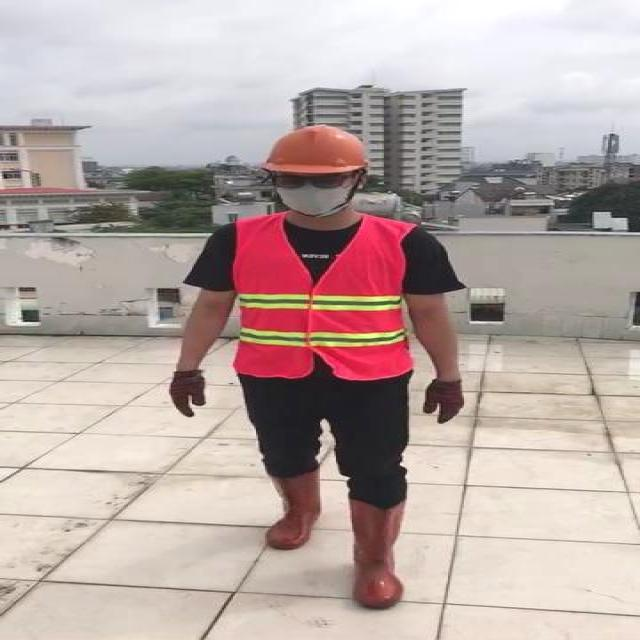boots: (343, 498, 413, 607), (262, 467, 326, 549)
face_mask: (267, 168, 359, 218)
glasses: (262, 168, 353, 196)
hand_glove: (167, 371, 208, 418), (421, 380, 466, 421)
head_helmet: (254, 119, 382, 176)
person: (163, 120, 479, 619)
vest: (236, 216, 409, 380)
